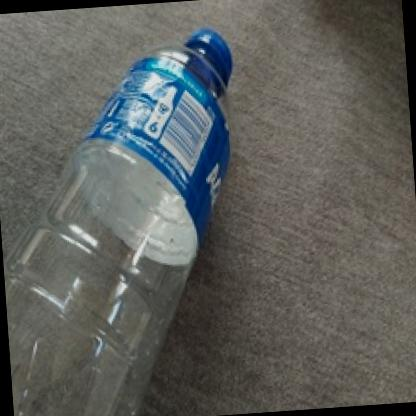plastic_bottles: (0, 25, 258, 416)
